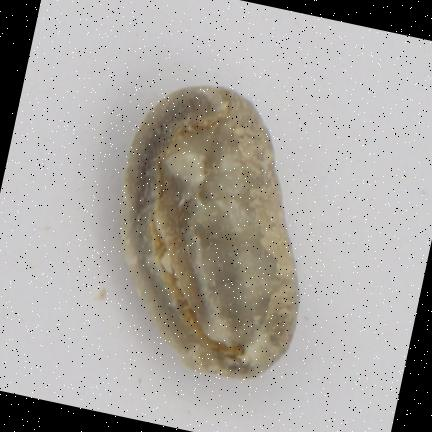cut: (122, 87, 298, 377)
